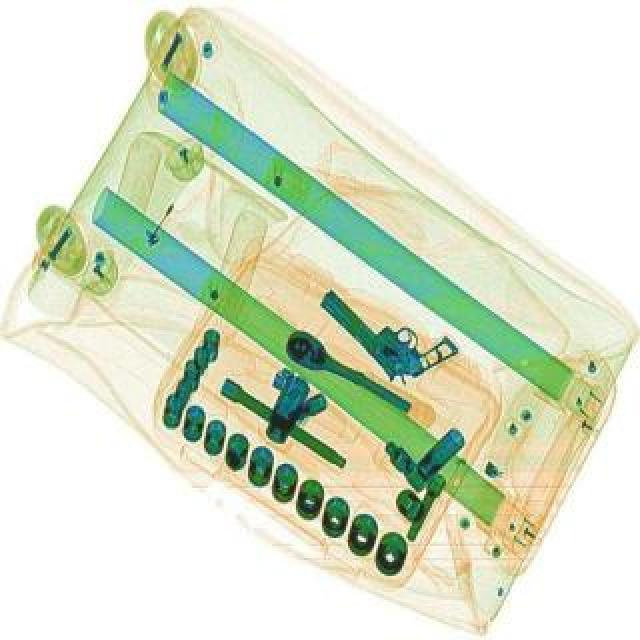gun: (316, 254, 460, 394)
